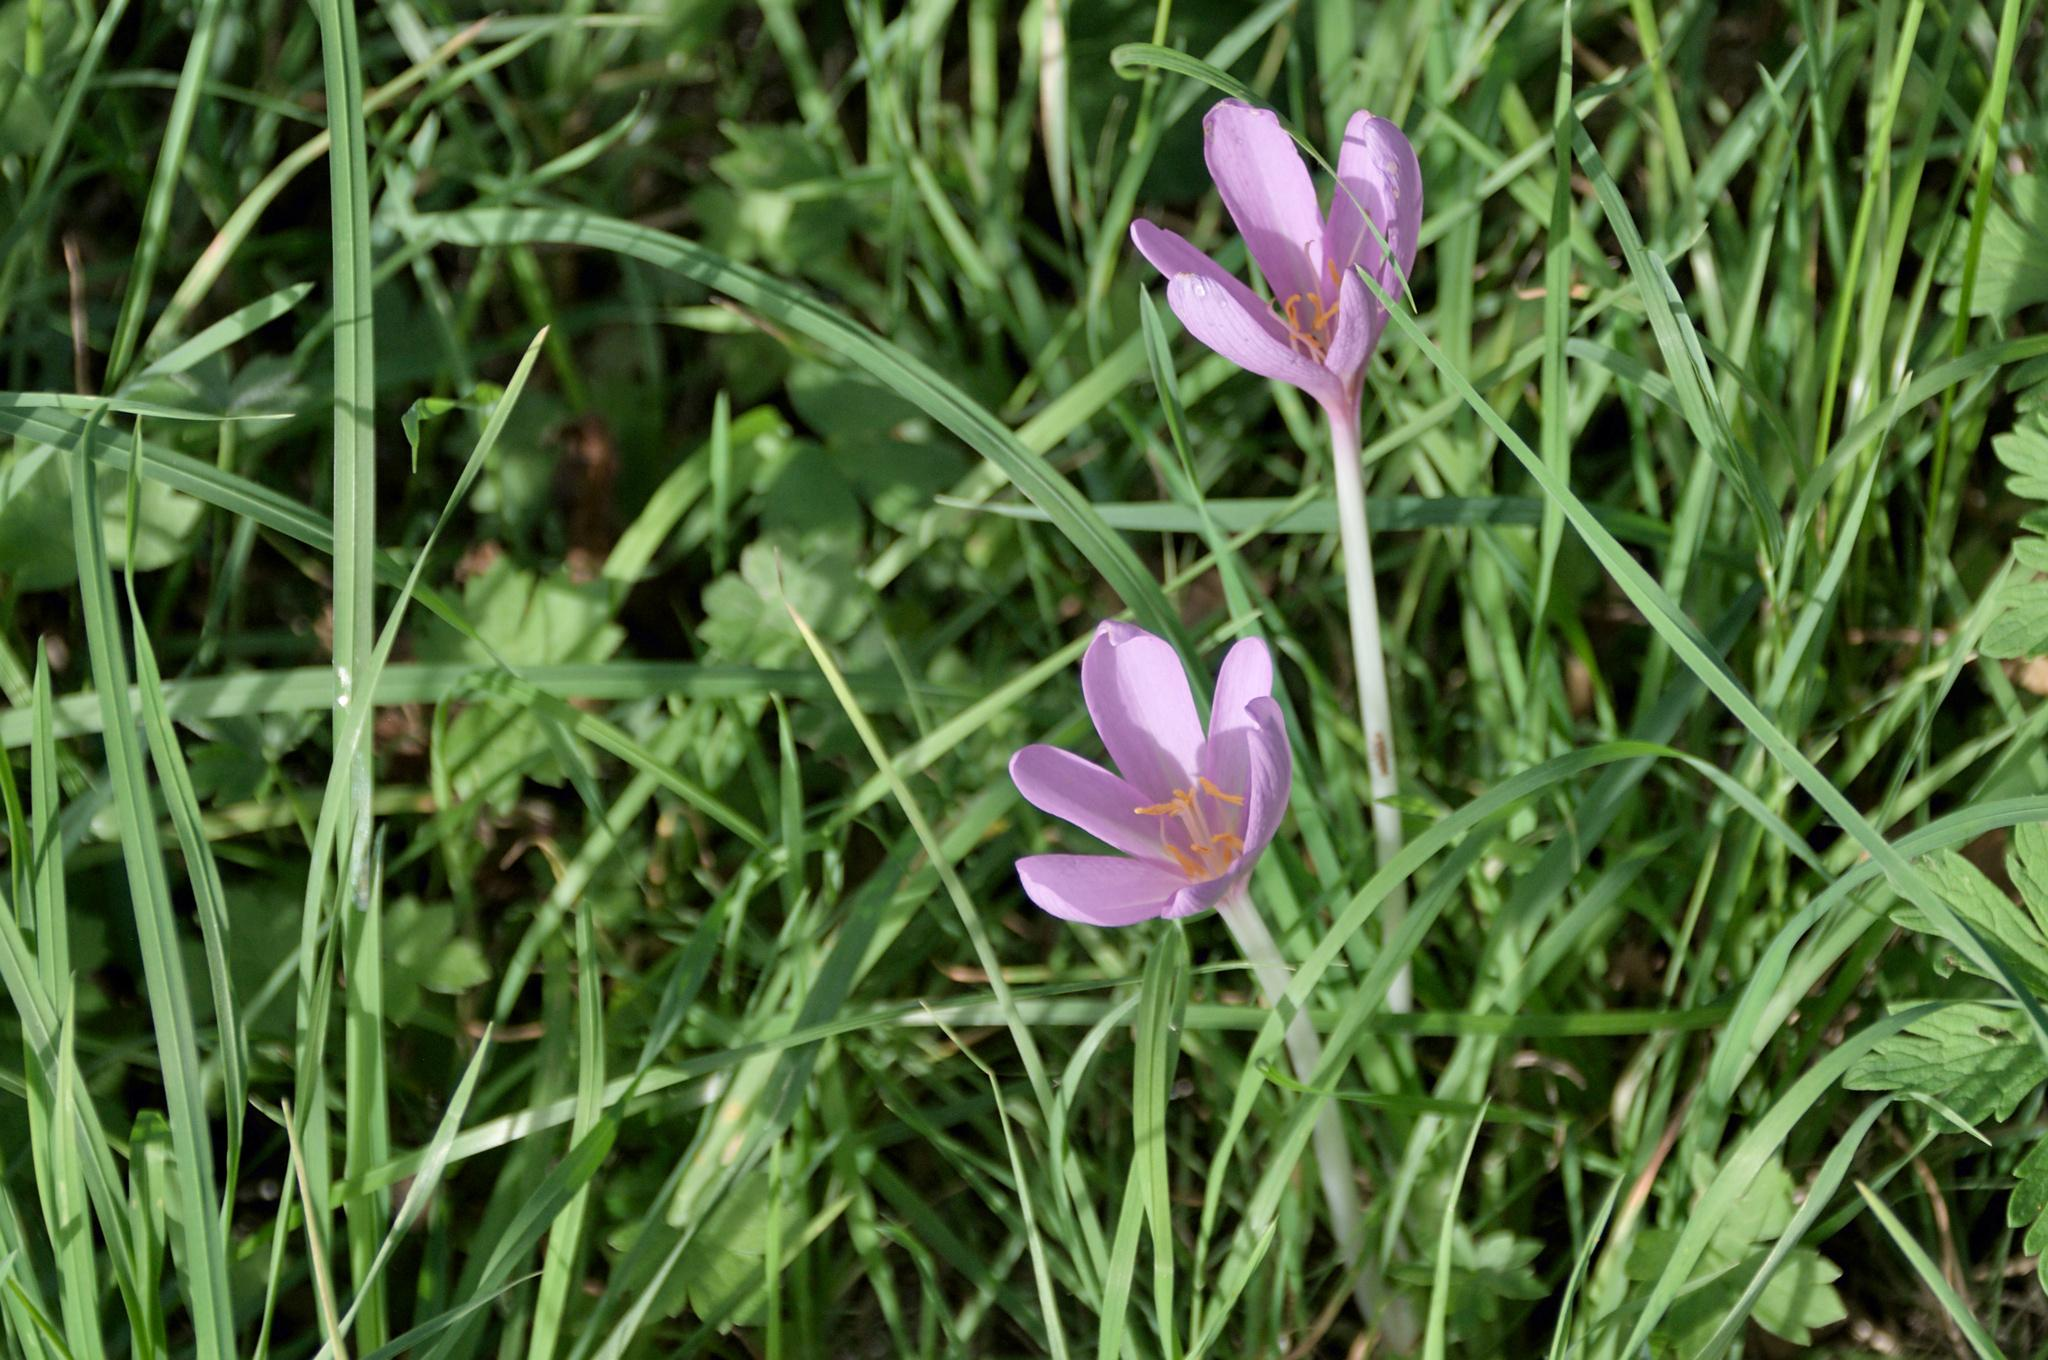Colchicum autumnale L: (1019, 577, 1488, 1352), (1120, 50, 1494, 600)
